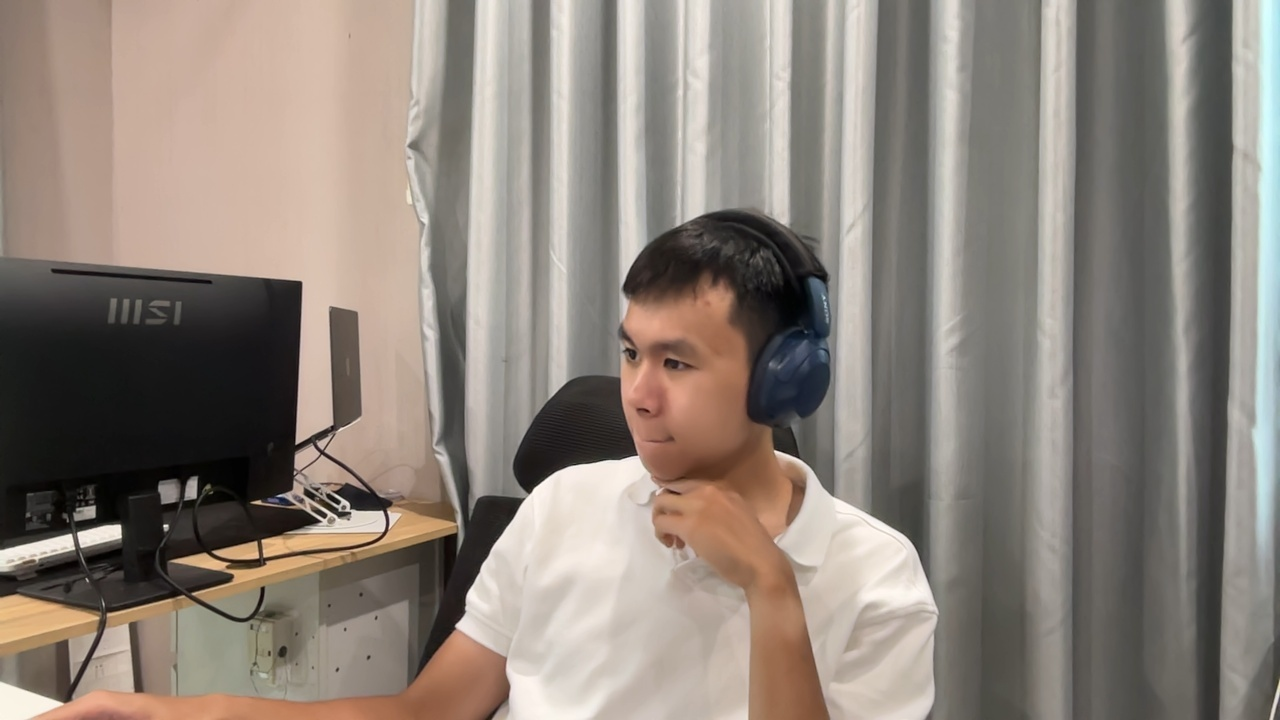over_ear: (690, 209, 834, 431), (742, 273, 833, 429)
